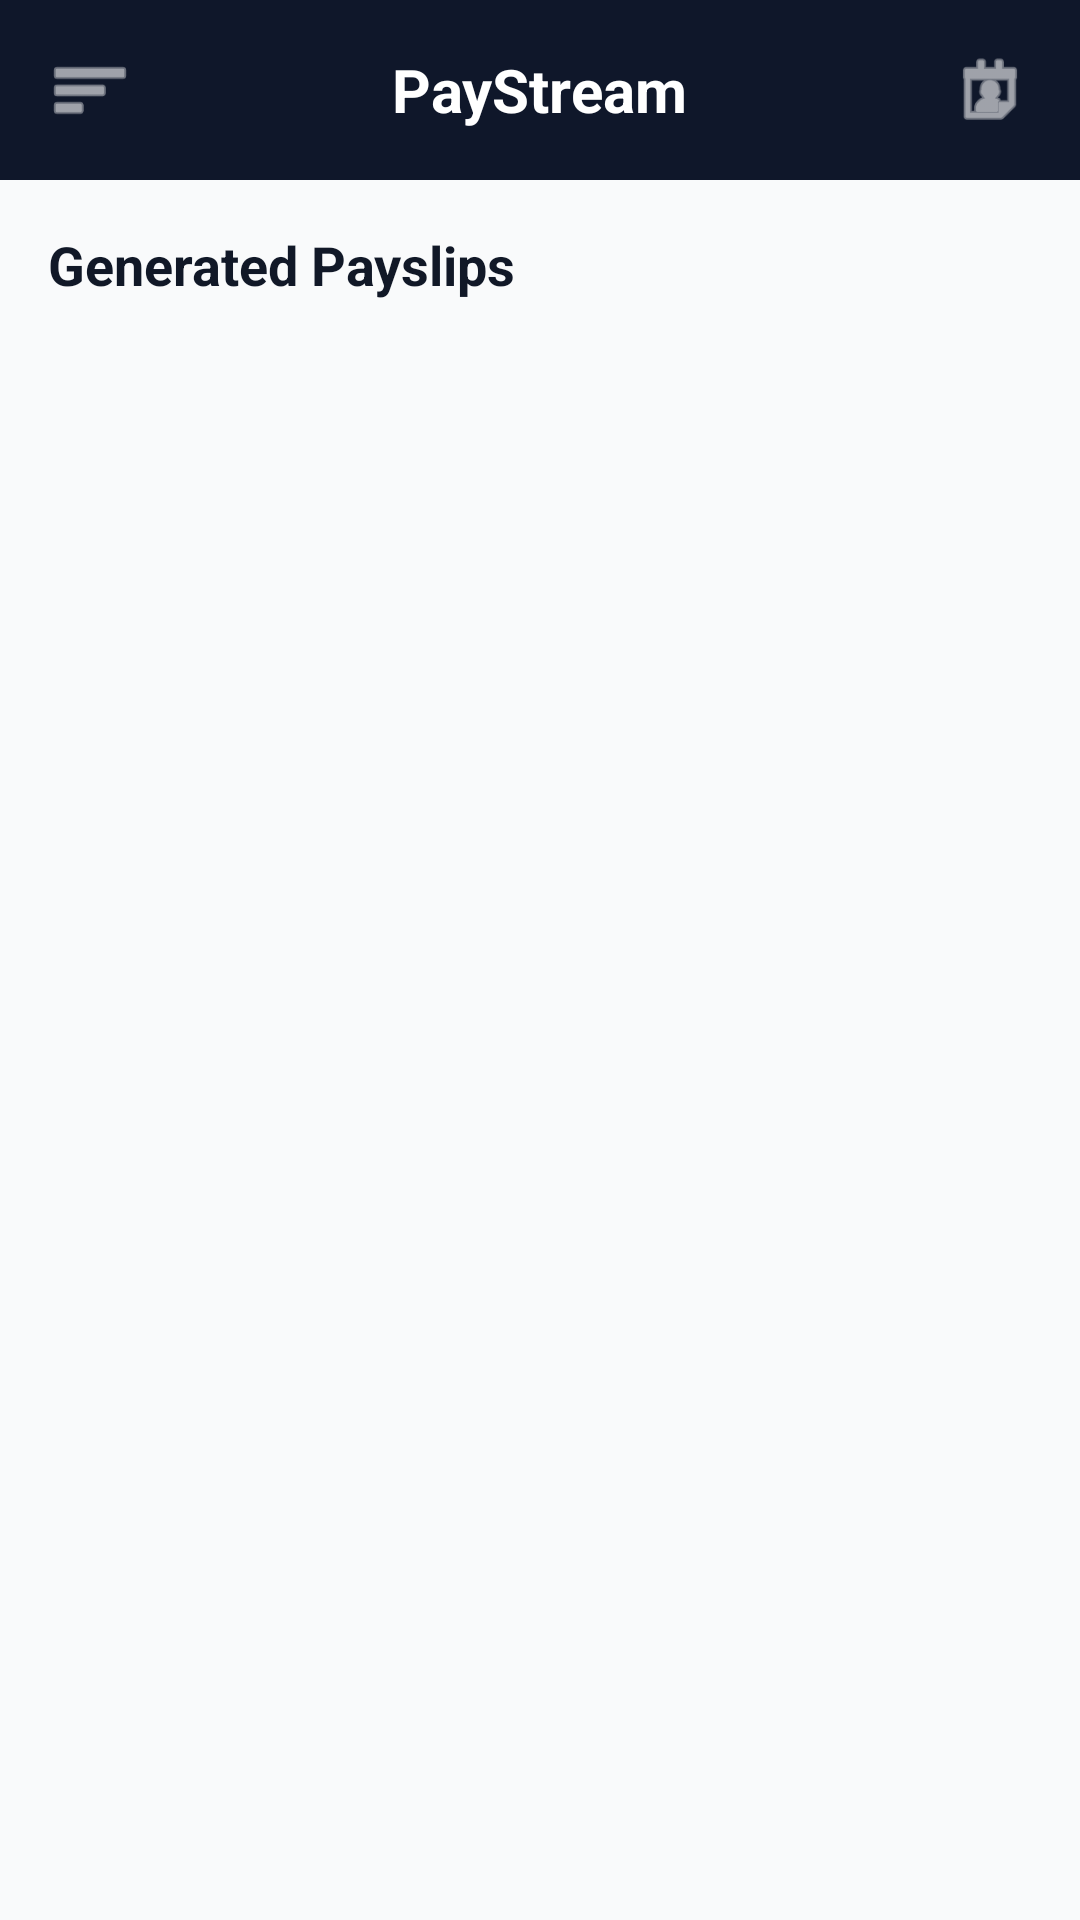

Screen size 1080px×1920px. Icon name, then its center in pixels as (x=x, y=y):
calendar: (x=990, y=89)
sort by size: (x=90, y=90)
